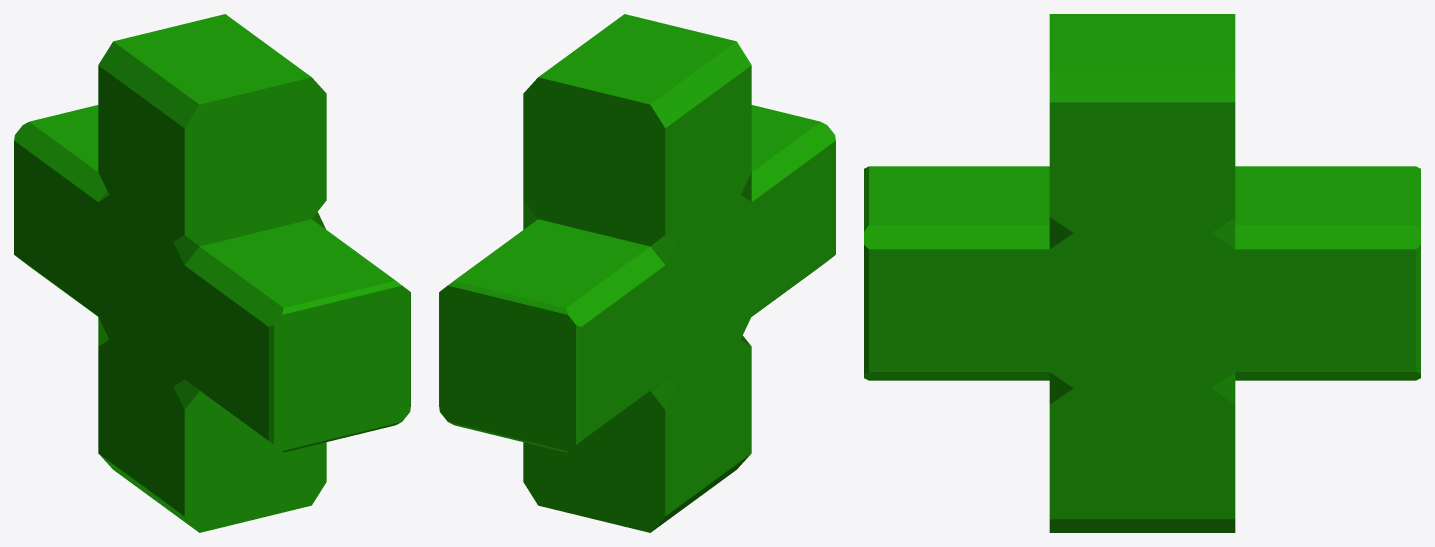
Rendered from Heal.fbx.
3 renders of one model, left to right at view 1: azimuth 30°, elevation 25°; view 2: azimuth 150°, elevation 25°; view 3: azimuth 270°, elevation 25°, orthographic. The views are drawn at different scales.
Visible parts, largest first — view 1: Cube; view 2: Cube; view 3: Cube.
Boxes of the visible parts, left/top/right/bottom form: Cube: left=14, top=14, right=410, bottom=532; Cube: left=439, top=14, right=835, bottom=532; Cube: left=864, top=14, right=1420, bottom=532.
Size of the model in its own units: 155 by 447 by 491.
